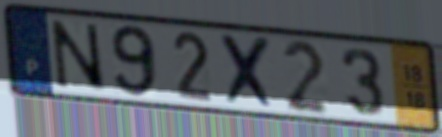2: (280, 37, 335, 118), (172, 29, 214, 105)
3: (339, 46, 389, 118)
9: (109, 23, 159, 100)
N: (48, 17, 110, 94)
X: (217, 31, 281, 113)
